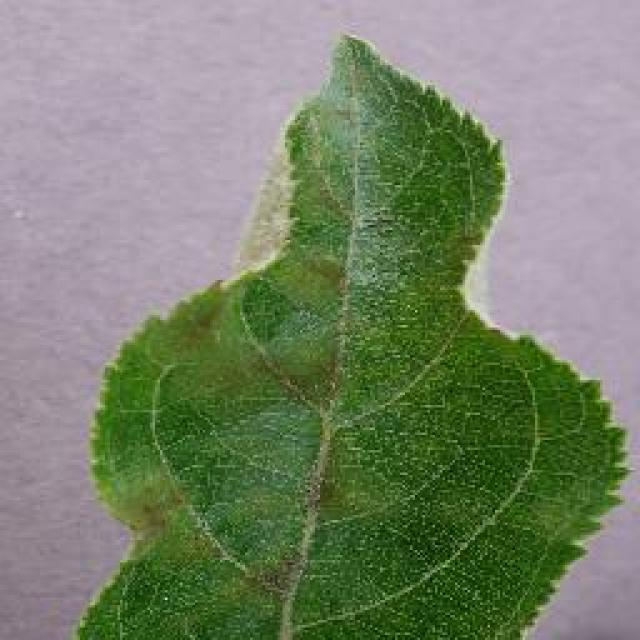apple scab disease: (68, 30, 632, 638)
